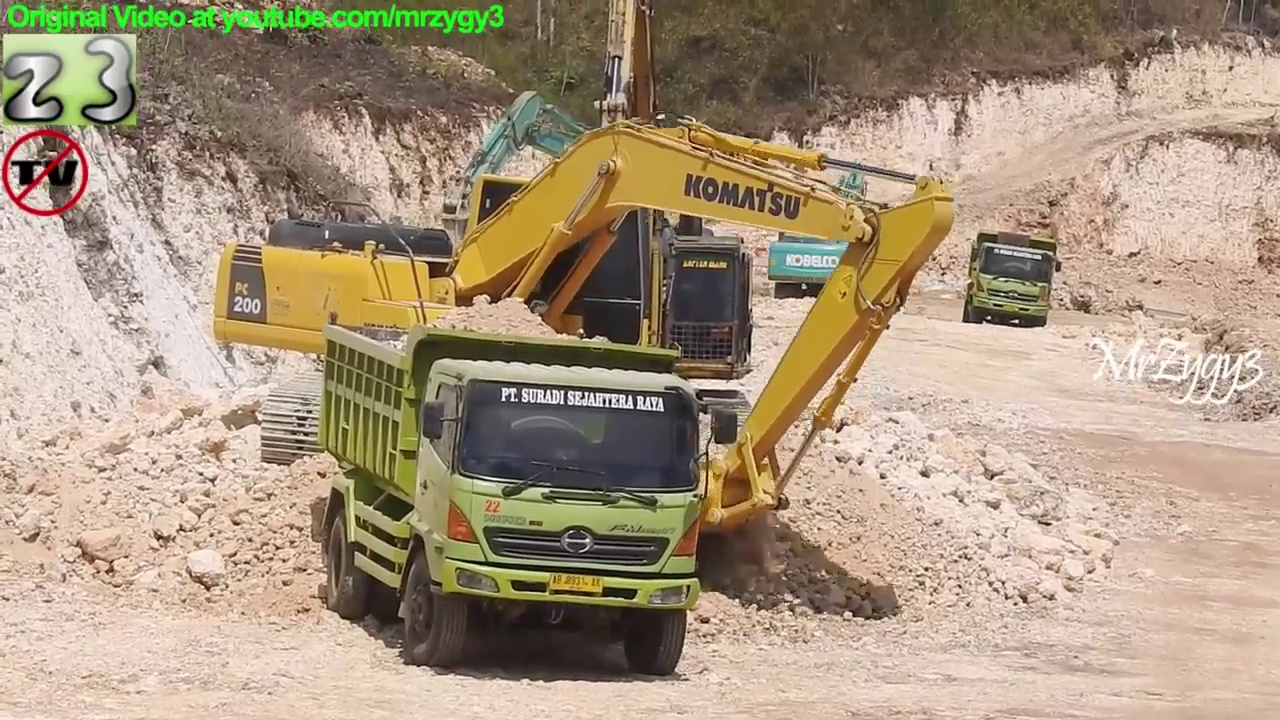excavator: (209, 113, 958, 545), (370, 1, 779, 483), (764, 167, 891, 303)
truck: (313, 312, 743, 685), (962, 227, 1065, 331)
